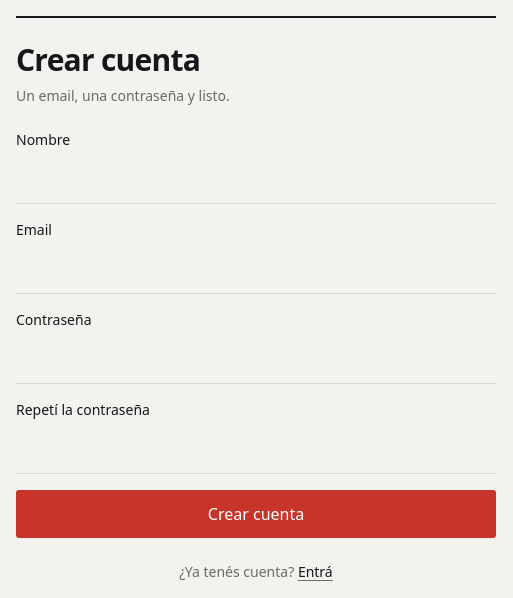
the links on this screen › underlines the one on the confirmation with the shared link class
Step 1. Type "Ana" into the field labelled "Nombre" → [256, 180], box [16,156,496,204]
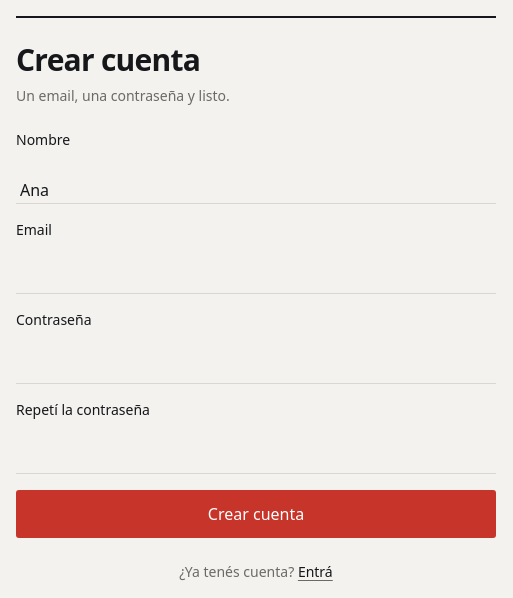
Step 2. Type "atleta@example.test" into the field labelled "Email" → [256, 270], box [16,246,496,294]
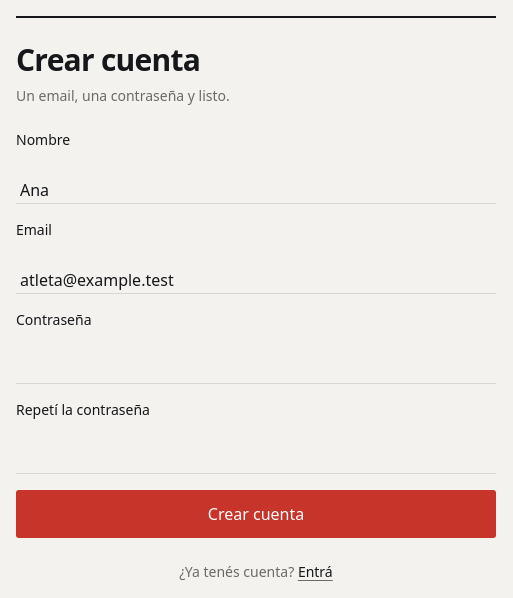
Step 3. Type "secreta123" into the password field labelled "Contraseña" → [256, 360], box [16,336,496,384]
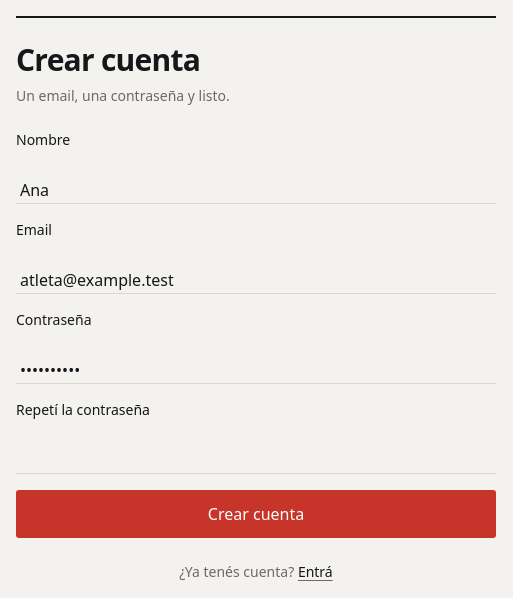
Step 4. Type "secreta123" into the password field labelled "Repetí la contraseña" → [256, 450], box [16,426,496,474]
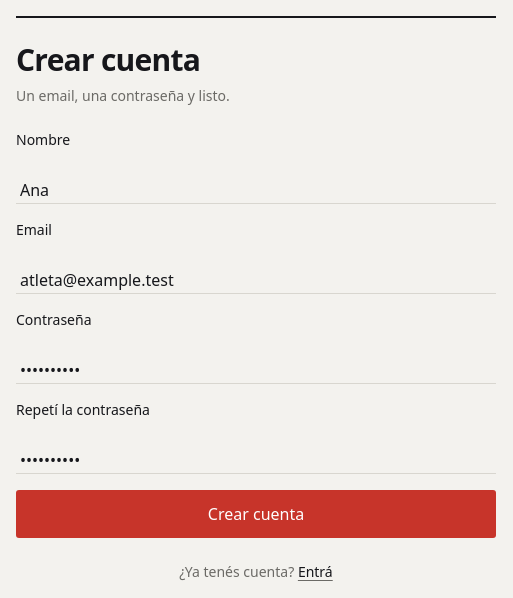
Step 5. Click the button "Crear cuenta" → [256, 514], box [16,490,496,538]
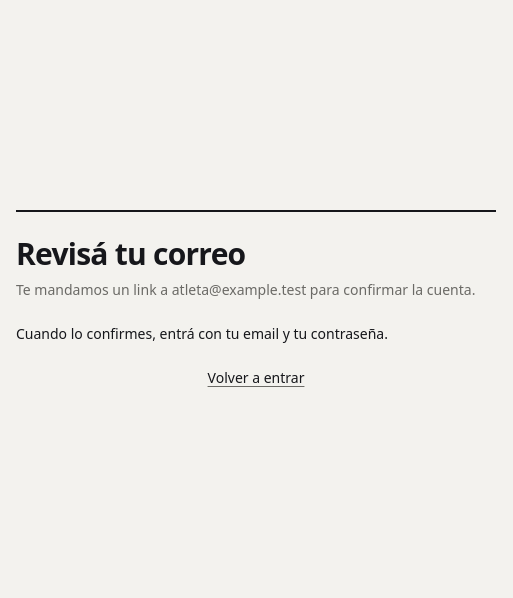
expect the heading "Revisá tu correo" is shown: met, box [16,233,246,274]
